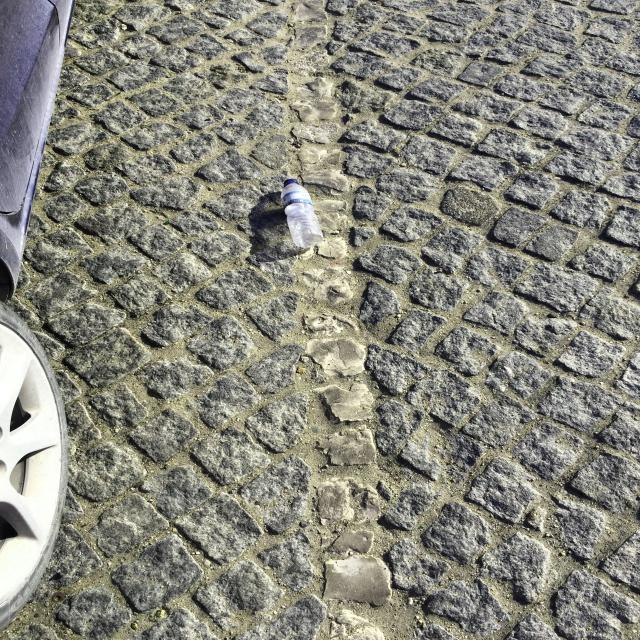less trash: (282, 179, 323, 249)
